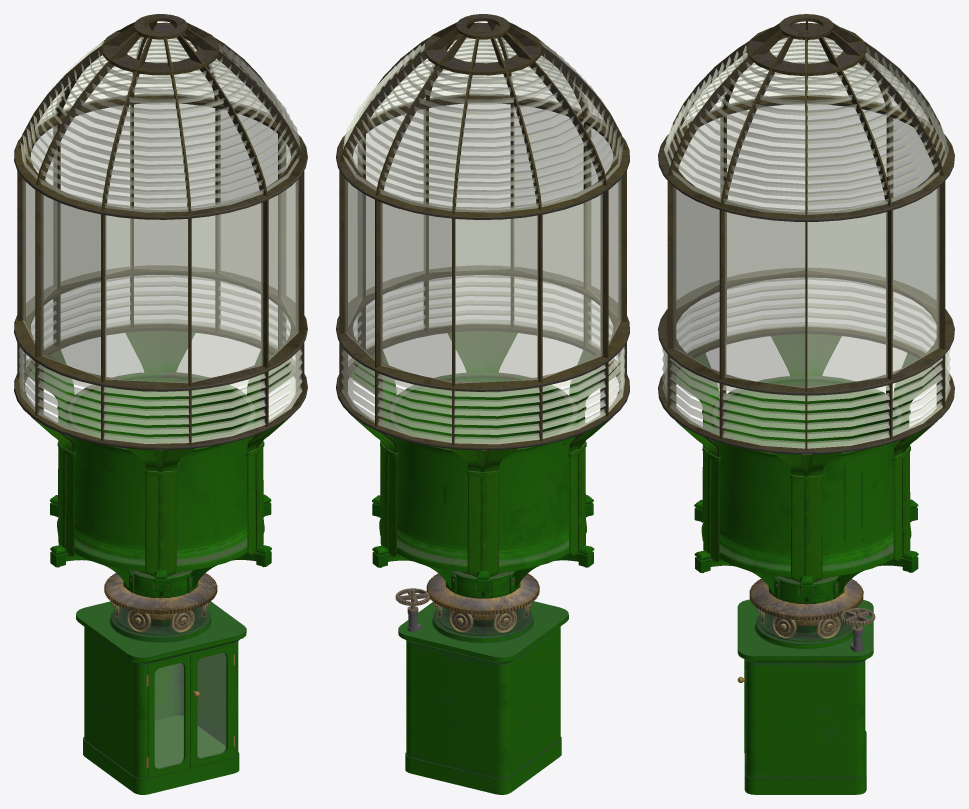
Rendered from fresnel-lens.glb.
The picture shows the model from 3 angles, left to right: view 1: azimuth 30°, elevation 25°; view 2: azimuth 150°, elevation 25°; view 3: azimuth 270°, elevation 25°; orthographic projection.
Parts seen in each view (by area): view 1: Object_9, Object_2, Object_10, Object_11, Object_3, Object_13, Object_8, Object_7, Object_4, Object_6, Object_12; view 2: Object_9, Object_2, Object_10, Object_11, Object_3, Object_13, Object_7, Object_4, Object_6, Object_12, Object_14; view 3: Object_9, Object_10, Object_2, Object_11, Object_3, Object_13, Object_7, Object_4, Object_6, Object_12, Object_14.
Part boxes in pixels (x1,y1,x2,y2): Object_9: (22, 103, 298, 383); Object_2: (14, 14, 307, 449); Object_10: (19, 37, 302, 443); Object_11: (57, 371, 264, 571); Object_3: (76, 601, 246, 794); Object_13: (28, 330, 292, 576); Object_8: (155, 653, 225, 768); Object_7: (104, 570, 217, 622); Object_4: (50, 494, 271, 597); Object_6: (109, 571, 211, 643); Object_12: (112, 602, 209, 632); Object_9: (345, 104, 621, 383); Object_2: (336, 14, 629, 450); Object_10: (341, 37, 625, 444); Object_11: (379, 372, 586, 572); Object_3: (398, 601, 568, 794); Object_13: (350, 331, 615, 577); Object_7: (426, 570, 539, 623); Object_4: (372, 495, 594, 598); Object_6: (432, 571, 534, 643); Object_12: (434, 603, 531, 633); Object_14: (395, 588, 429, 631); Object_9: (673, 104, 939, 387); Object_10: (662, 37, 950, 448); Object_2: (658, 14, 954, 454); Object_11: (701, 375, 911, 577); Object_3: (737, 599, 873, 794); Object_13: (676, 334, 937, 582); Object_7: (749, 576, 863, 628); Object_4: (694, 499, 918, 603); Object_6: (754, 577, 855, 649); Object_12: (757, 608, 850, 638); Object_14: (840, 608, 875, 651).
Bounding box in the file's own units: 2.72 × 7.49 × 2.71.
13 materials, 10 textured.
